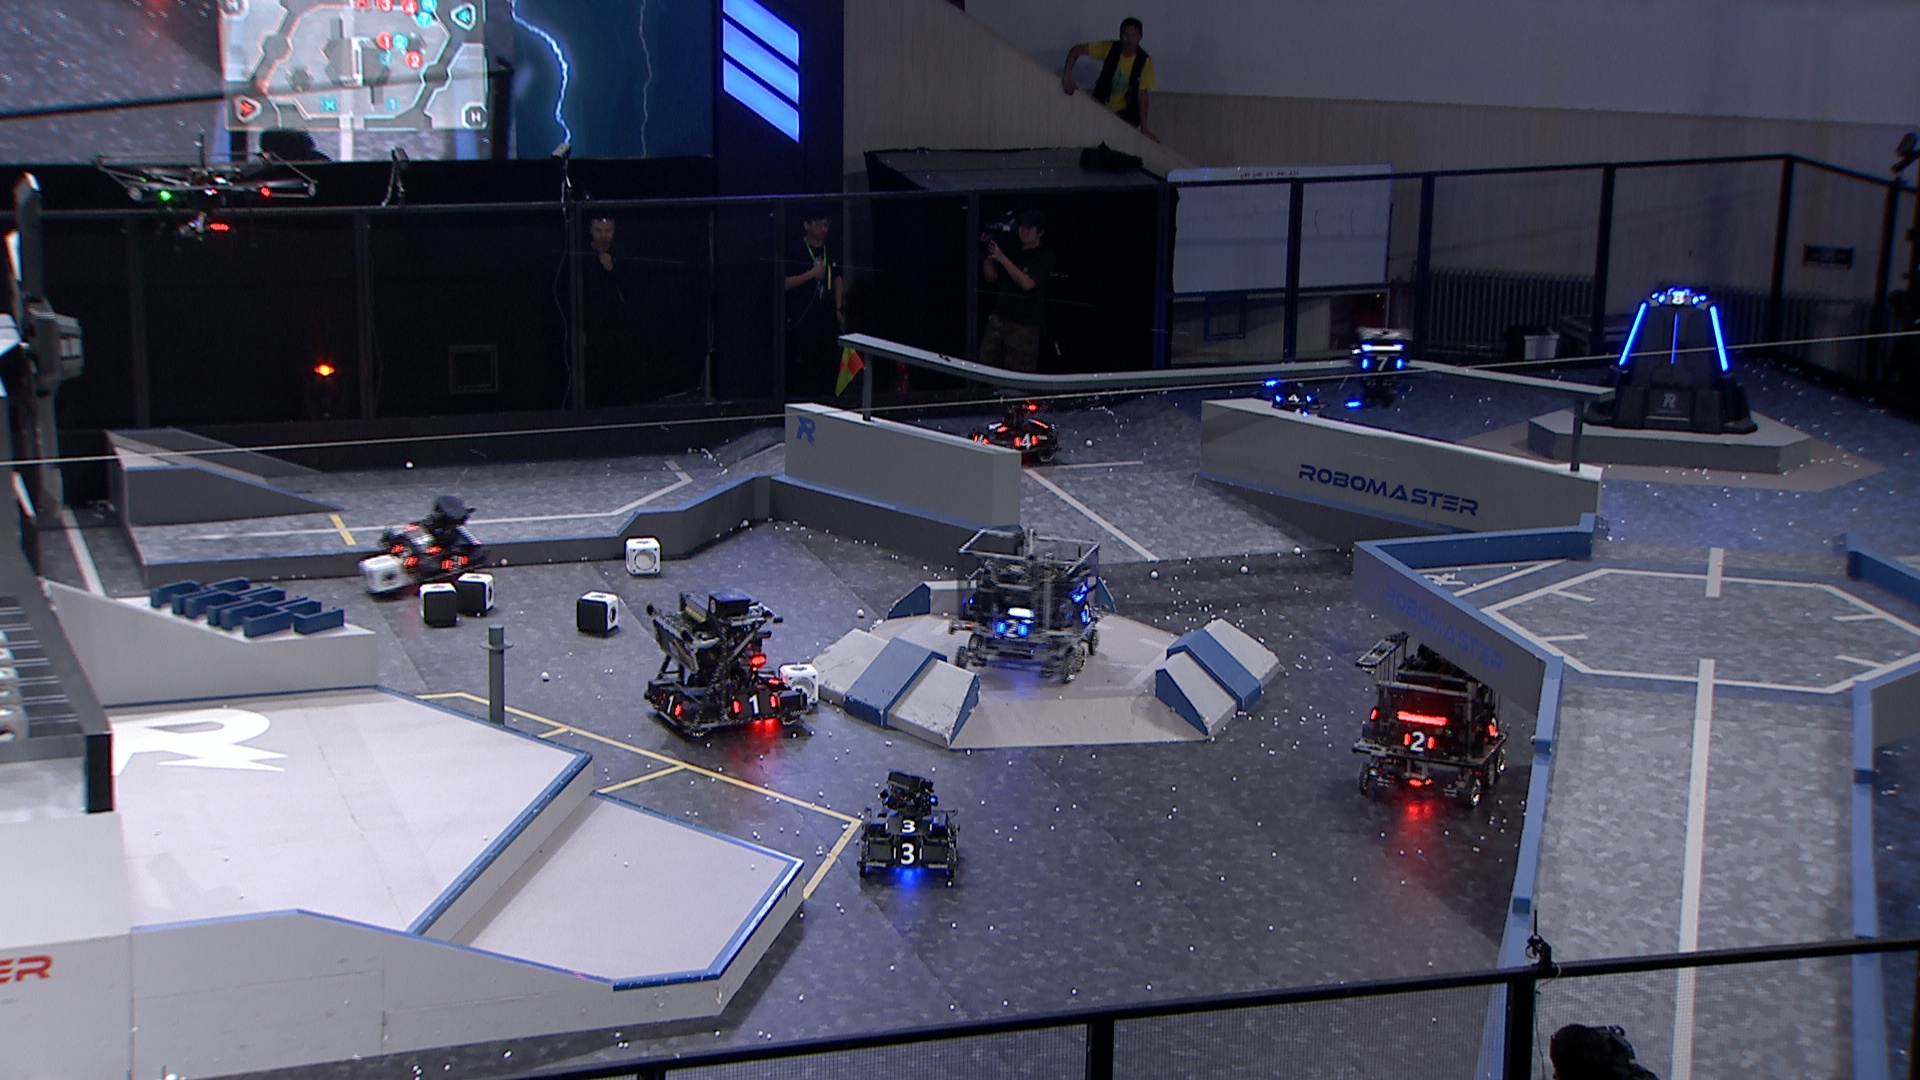armor: (1617, 301, 1650, 367), (1706, 305, 1731, 373), (400, 520, 440, 555), (728, 694, 782, 716), (1360, 353, 1408, 375), (884, 818, 934, 836), (889, 841, 924, 866), (1400, 727, 1433, 752), (1667, 310, 1681, 365), (655, 690, 684, 717), (386, 542, 417, 568), (993, 617, 1027, 640), (438, 551, 471, 574), (1658, 291, 1700, 309), (752, 665, 782, 688), (1273, 390, 1313, 406), (1010, 429, 1039, 450), (1484, 716, 1503, 740), (982, 419, 1006, 436), (1077, 603, 1096, 624), (972, 431, 992, 447)
base: (1581, 285, 1762, 436)
car: (1348, 622, 1513, 802), (640, 585, 816, 742), (945, 524, 1106, 680), (855, 770, 965, 887), (375, 491, 489, 585), (971, 389, 1067, 469), (1254, 356, 1332, 429)
watcher: (1349, 322, 1414, 411)
